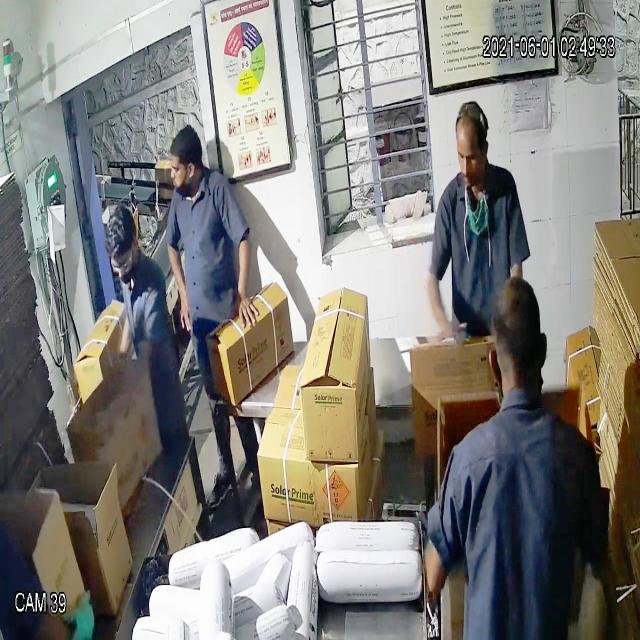glasses: (104, 247, 140, 282)
no-glass: (451, 135, 493, 174)
